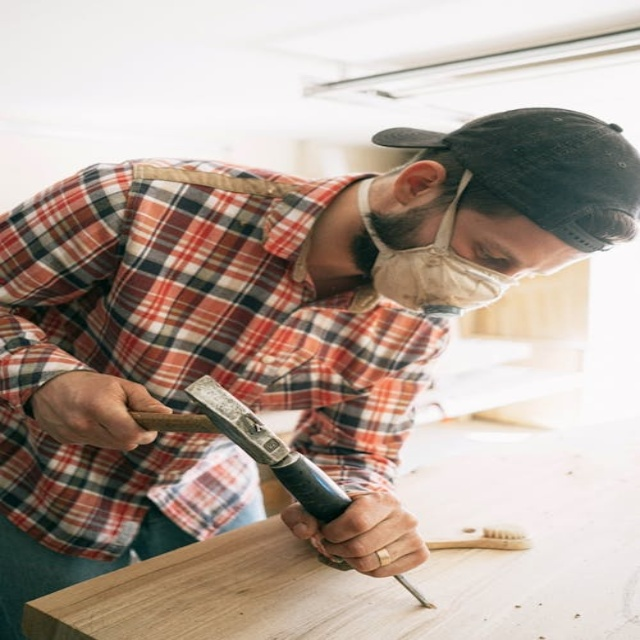Mascara: (361, 167, 517, 318)
Sin_gafas: (466, 227, 553, 283)
Sin_guantes: (282, 486, 430, 578), (31, 369, 177, 452)
